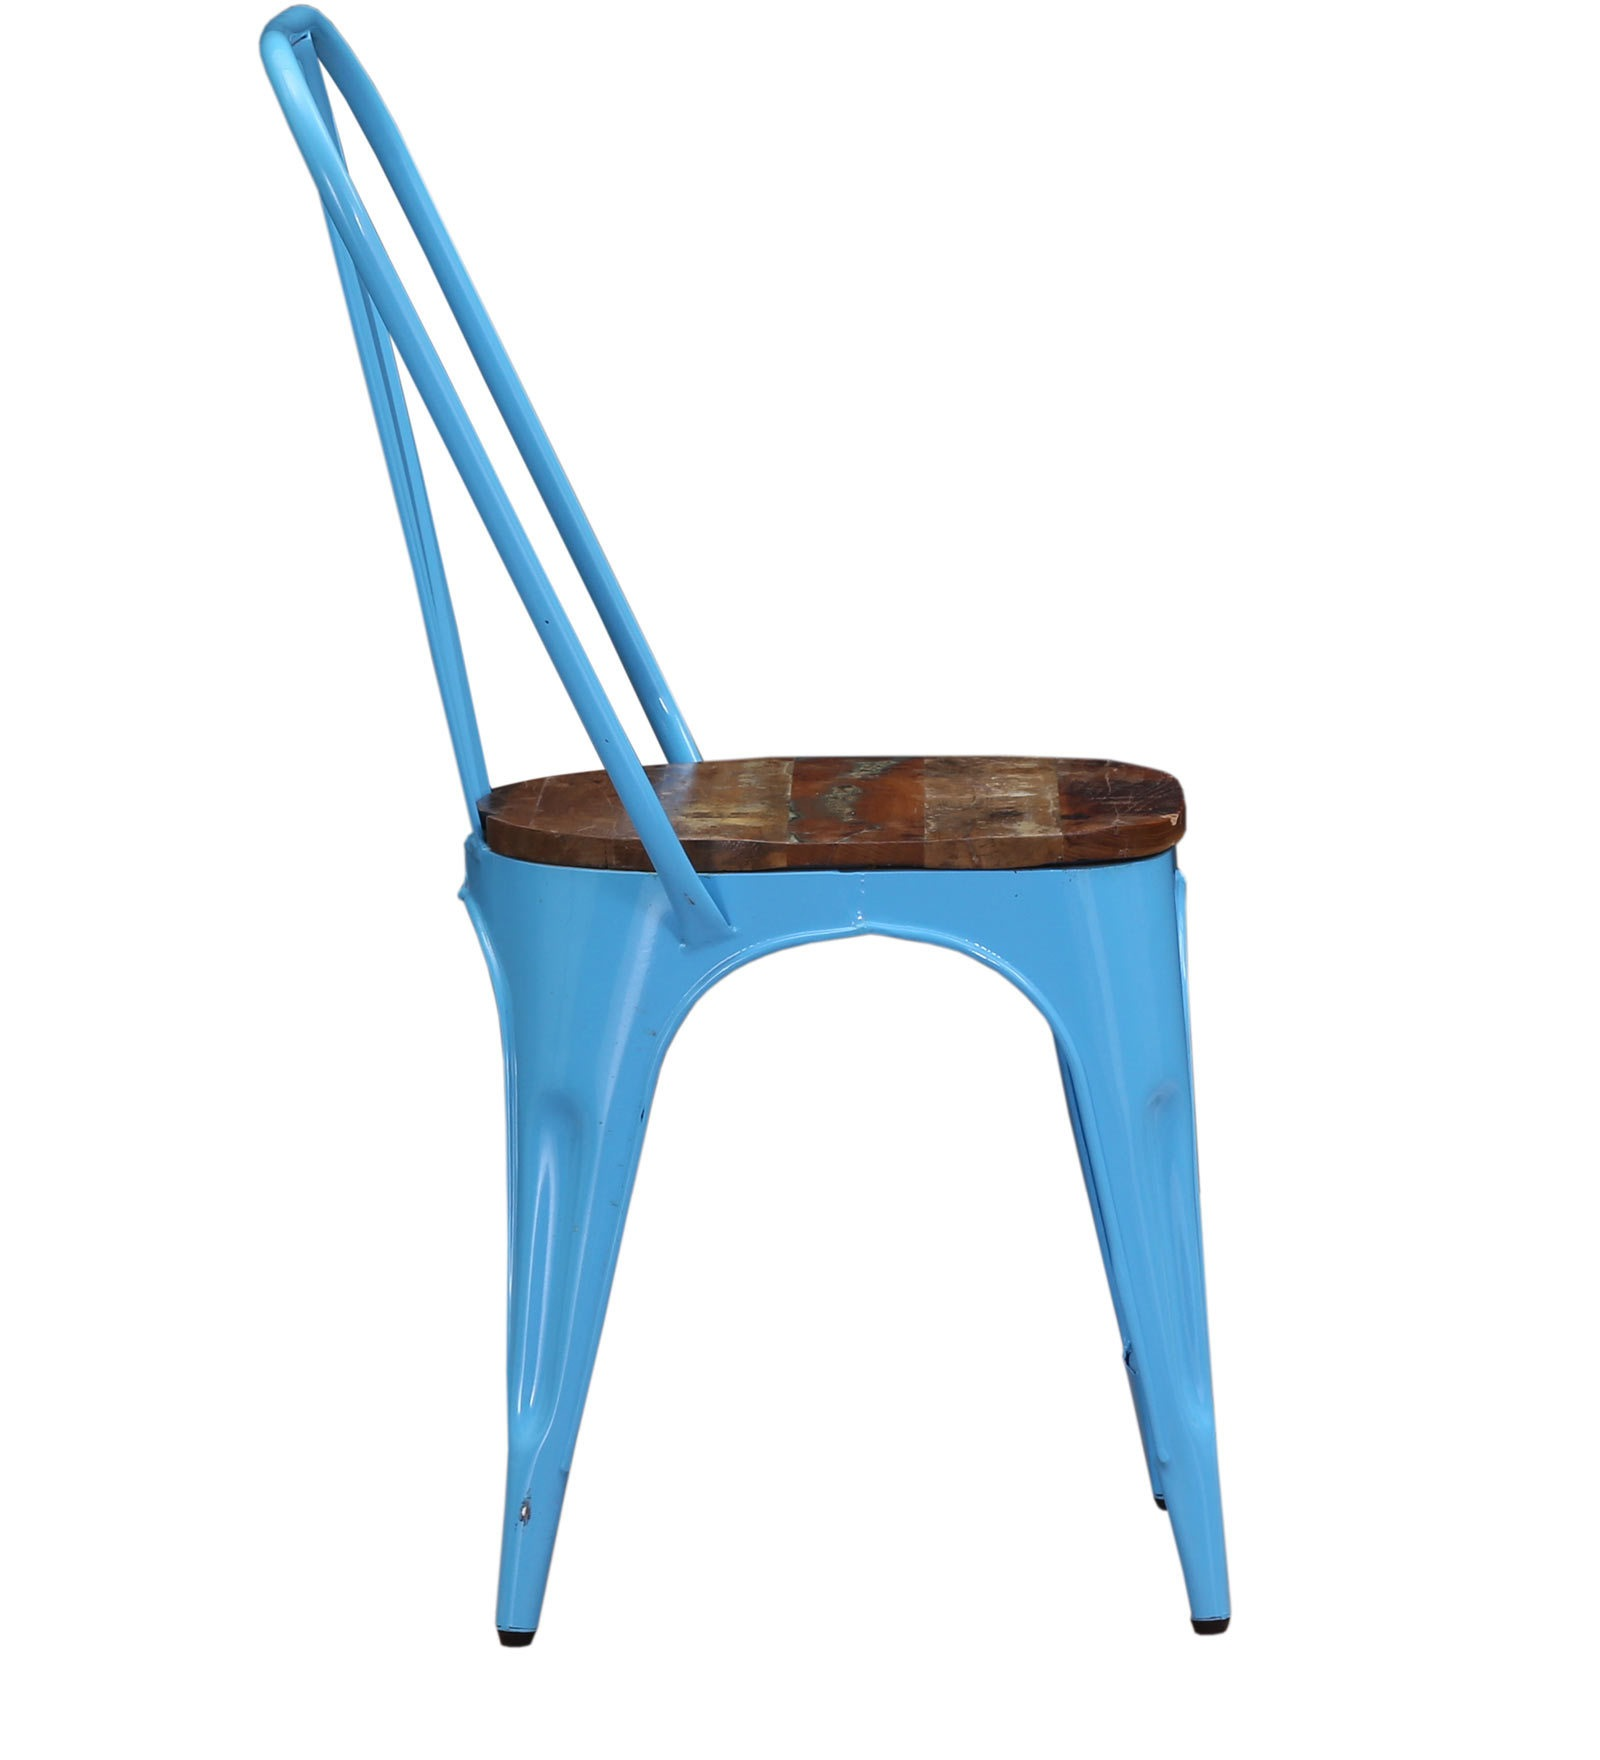Kumtor Metal Chair in Sky Blue Color with Wooden Seat by Bohemiana: (208, 5, 1312, 1677)
